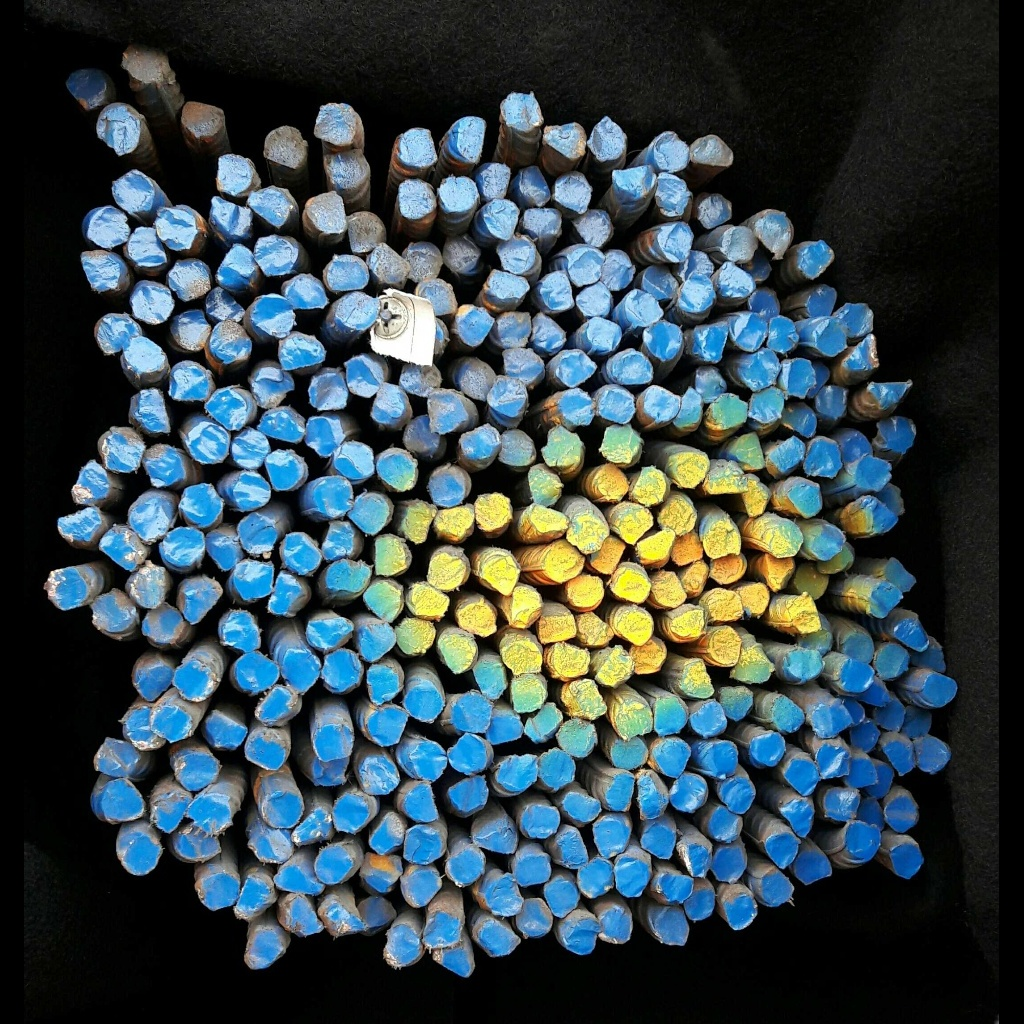dipstick: (449, 116, 494, 164), (98, 105, 141, 152), (79, 251, 128, 292), (251, 361, 295, 406), (94, 738, 141, 779), (129, 496, 173, 539), (125, 704, 167, 749), (179, 578, 220, 624), (313, 104, 357, 146), (101, 529, 145, 571), (207, 196, 254, 235), (180, 485, 223, 527), (116, 833, 160, 874), (84, 207, 129, 247), (253, 295, 295, 337), (428, 465, 470, 507), (95, 590, 137, 632), (248, 186, 289, 229), (553, 717, 596, 758), (428, 389, 468, 433), (269, 573, 309, 617), (250, 824, 294, 864), (650, 902, 690, 946), (633, 770, 668, 820), (131, 565, 172, 607), (479, 553, 520, 595), (103, 779, 144, 821), (219, 245, 259, 288), (235, 874, 275, 917), (547, 824, 587, 867), (167, 260, 211, 299), (279, 330, 325, 367), (175, 823, 222, 859), (112, 170, 153, 211), (131, 282, 172, 323), (103, 430, 144, 471), (400, 866, 441, 907), (264, 126, 306, 166), (206, 388, 246, 430), (305, 416, 345, 458), (376, 449, 418, 489), (245, 927, 287, 967), (562, 245, 604, 285), (737, 347, 777, 389), (96, 314, 140, 352), (439, 630, 477, 674), (654, 173, 692, 217), (591, 648, 635, 686), (313, 476, 353, 517), (351, 493, 392, 533), (134, 662, 175, 702), (427, 551, 468, 591), (322, 648, 362, 689), (284, 894, 324, 935), (588, 117, 628, 158), (326, 149, 368, 188), (308, 191, 347, 233), (345, 357, 387, 396), (599, 424, 641, 463), (213, 321, 251, 364), (123, 335, 166, 373), (235, 654, 278, 692), (189, 794, 232, 832), (384, 924, 422, 967), (495, 236, 538, 274), (456, 304, 492, 349), (266, 449, 306, 489), (524, 701, 564, 741), (133, 391, 172, 432), (187, 423, 228, 462), (307, 371, 348, 410), (47, 569, 88, 608), (359, 754, 398, 795), (642, 321, 683, 360), (282, 532, 320, 574), (538, 748, 576, 790), (487, 269, 529, 307), (153, 790, 190, 833), (123, 48, 169, 82), (173, 310, 212, 350), (145, 446, 184, 486), (174, 661, 213, 701), (205, 709, 245, 748), (404, 683, 443, 723), (367, 706, 406, 746), (179, 751, 219, 790), (315, 845, 354, 885), (256, 237, 297, 275), (369, 244, 410, 282), (223, 610, 261, 651), (449, 732, 487, 773), (804, 438, 842, 479), (347, 210, 384, 252), (162, 528, 204, 565), (594, 815, 631, 857), (659, 493, 695, 536), (486, 707, 525, 746), (503, 93, 542, 132), (129, 227, 167, 267), (203, 530, 241, 570), (364, 851, 402, 891), (453, 693, 491, 733), (196, 873, 237, 910), (497, 754, 538, 791), (616, 605, 653, 646), (281, 650, 317, 692), (217, 154, 255, 193), (231, 471, 269, 510), (562, 916, 600, 955), (734, 645, 773, 683), (66, 71, 106, 108), (334, 440, 374, 477), (462, 424, 502, 461), (449, 776, 489, 813), (476, 817, 516, 854), (400, 128, 437, 168), (857, 495, 897, 532), (766, 518, 803, 558), (338, 292, 379, 328), (169, 363, 210, 399), (487, 874, 523, 915), (503, 349, 544, 385), (142, 605, 184, 640), (368, 810, 401, 854), (474, 654, 507, 698), (363, 582, 401, 620), (567, 680, 605, 718), (669, 451, 707, 489), (417, 280, 456, 317), (400, 360, 439, 397), (232, 429, 269, 468), (404, 826, 443, 863), (569, 514, 606, 553), (598, 385, 635, 424), (545, 123, 584, 160), (575, 208, 614, 245), (473, 493, 513, 529), (376, 535, 412, 575), (233, 561, 273, 597), (151, 705, 191, 741), (314, 724, 354, 760), (792, 849, 832, 885), (671, 773, 707, 813), (459, 359, 495, 399), (653, 133, 689, 173), (798, 238, 834, 278), (445, 849, 486, 884), (181, 102, 223, 136), (256, 689, 298, 723), (613, 165, 656, 198), (759, 211, 792, 254), (404, 242, 441, 280), (239, 517, 276, 555), (558, 389, 595, 427), (408, 582, 447, 618), (613, 696, 649, 735), (836, 657, 875, 693), (328, 255, 368, 290), (262, 792, 302, 827), (332, 792, 367, 832), (479, 921, 519, 956), (652, 696, 687, 736), (554, 352, 595, 386), (667, 605, 709, 638), (684, 655, 716, 698), (397, 618, 434, 655), (489, 380, 526, 417), (732, 314, 769, 351), (655, 739, 691, 777), (546, 542, 582, 580), (634, 467, 670, 505), (400, 180, 436, 218), (554, 175, 592, 211), (566, 573, 605, 608), (878, 416, 917, 451), (603, 248, 634, 292), (73, 461, 107, 501), (545, 878, 579, 918), (512, 673, 546, 713), (328, 560, 369, 593), (529, 464, 562, 505), (691, 135, 732, 168), (57, 508, 100, 539), (700, 740, 736, 777), (500, 429, 536, 466), (837, 302, 873, 339), (867, 580, 903, 617), (531, 313, 569, 348), (613, 351, 651, 386), (246, 736, 285, 770), (404, 782, 438, 821), (517, 899, 551, 938), (643, 819, 676, 859), (785, 482, 821, 518), (359, 623, 394, 660), (553, 642, 590, 677), (723, 893, 758, 930), (916, 737, 951, 774), (767, 436, 804, 471), (920, 671, 957, 706), (369, 384, 403, 422), (403, 416, 437, 454), (579, 860, 613, 898), (779, 800, 813, 838), (706, 461, 744, 495), (288, 275, 327, 308), (782, 359, 814, 399), (783, 760, 819, 795), (586, 317, 622, 352), (856, 455, 891, 491), (792, 564, 828, 599), (514, 852, 551, 886), (522, 804, 559, 838), (541, 605, 575, 642), (720, 777, 754, 814), (544, 429, 581, 463), (626, 290, 663, 324), (628, 639, 666, 672), (814, 703, 852, 736), (578, 283, 616, 316), (704, 523, 742, 556), (881, 738, 913, 777), (307, 618, 351, 646), (364, 666, 399, 701), (597, 908, 633, 942), (659, 224, 693, 260), (718, 263, 752, 299), (749, 387, 783, 423), (840, 630, 876, 664), (322, 519, 355, 556), (763, 835, 800, 868), (441, 177, 478, 210), (808, 525, 845, 558), (895, 614, 927, 652), (709, 627, 740, 666), (708, 552, 747, 583), (434, 949, 474, 979), (890, 845, 925, 879), (691, 702, 726, 736), (617, 506, 652, 540), (645, 386, 679, 421), (785, 598, 819, 633), (426, 913, 462, 946), (709, 805, 742, 841), (824, 787, 860, 820), (865, 380, 909, 407), (887, 796, 919, 833), (653, 571, 685, 608), (773, 695, 805, 732), (695, 326, 727, 363), (706, 590, 744, 621), (543, 272, 573, 311), (769, 315, 799, 354), (817, 745, 851, 779), (722, 227, 757, 260), (713, 394, 748, 427), (837, 431, 873, 463), (815, 383, 851, 415), (845, 336, 881, 368), (500, 310, 531, 347), (638, 530, 675, 561), (873, 695, 904, 732), (885, 555, 916, 592), (436, 507, 475, 536), (520, 208, 559, 237), (760, 871, 793, 905), (604, 771, 632, 811), (657, 873, 692, 905), (875, 644, 907, 679), (735, 433, 766, 469), (610, 739, 647, 769), (785, 650, 822, 680), (742, 476, 769, 517), (713, 848, 745, 882), (848, 823, 880, 857), (721, 686, 753, 720), (698, 196, 732, 228), (563, 793, 601, 821), (845, 758, 879, 789), (750, 735, 785, 765), (528, 506, 566, 533), (597, 466, 629, 498), (482, 164, 509, 198), (742, 582, 768, 617), (806, 286, 836, 315), (684, 845, 710, 877), (687, 889, 713, 920), (750, 288, 779, 314)
